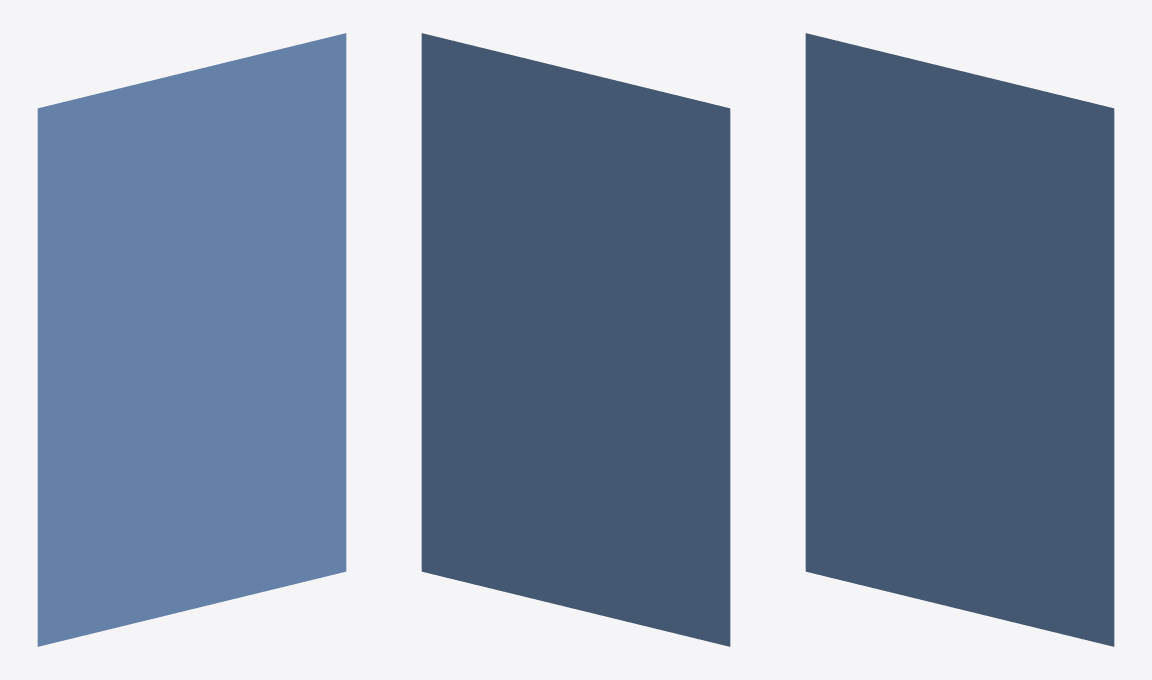
The model's file is RainingWindow.fbx.
3 views of the same model, side by side, from view 1: azimuth 30°, elevation 25°; view 2: azimuth 150°, elevation 25°; view 3: azimuth 330°, elevation 25° (orthographic).
Parts seen in each view (by area): view 1: 平面; view 2: 平面; view 3: 平面.
Part boxes in pixels (bbox=[...]): 平面: bbox=[37, 33, 346, 646]; 平面: bbox=[421, 33, 730, 646]; 平面: bbox=[805, 33, 1114, 646].
Size of the model in its own units: 0.7757 by 1.23 by 0.0801.
